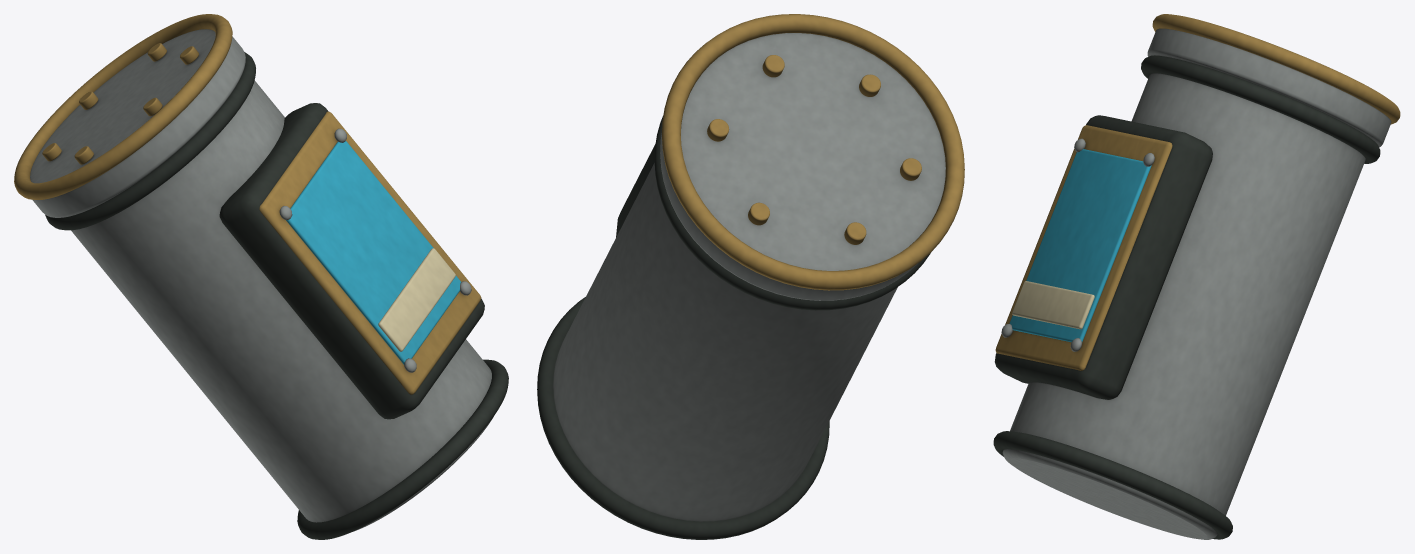
3 views of the same model, side by side, from view 1: azimuth 30°, elevation 25°; view 2: azimuth 150°, elevation 25°; view 3: azimuth 270°, elevation 25° (orthographic). The views are drawn at different scales.
Visible parts, largest first — view 1: Closed sample vessel; view 2: Closed sample vessel; view 3: Closed sample vessel.
Part boxes in pixels (left/top/right/bottom): Closed sample vessel: left=14, top=14, right=508, bottom=539; Closed sample vessel: left=537, top=14, right=964, bottom=539; Closed sample vessel: left=993, top=14, right=1400, bottom=539.
Size of the model in its own units: 1.09 by 1.26 by 0.9822.
Materials: 1 (1 with a texture image).
